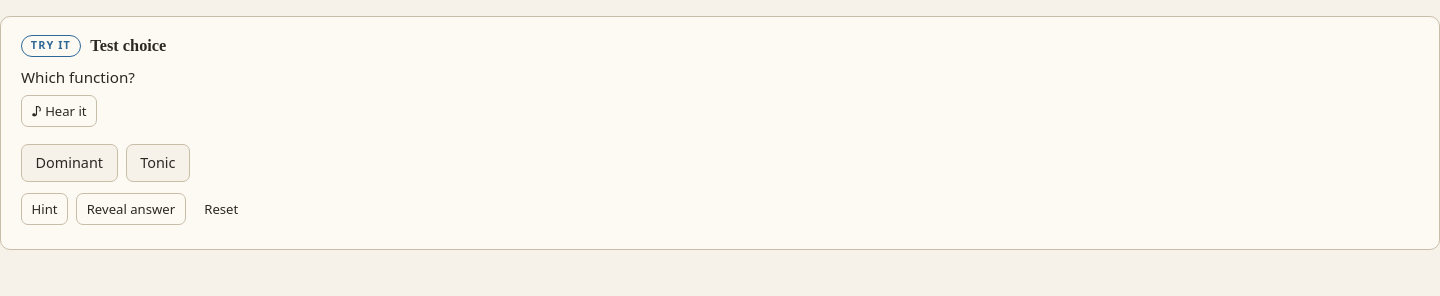
it: ChoiceExercise › gives immediate feedback for wrong then right answers
What coordinates should you click on to do the following:
click the button "Tonic"
I would click on:
 (158, 163)
Its box is [126,144,190,182].
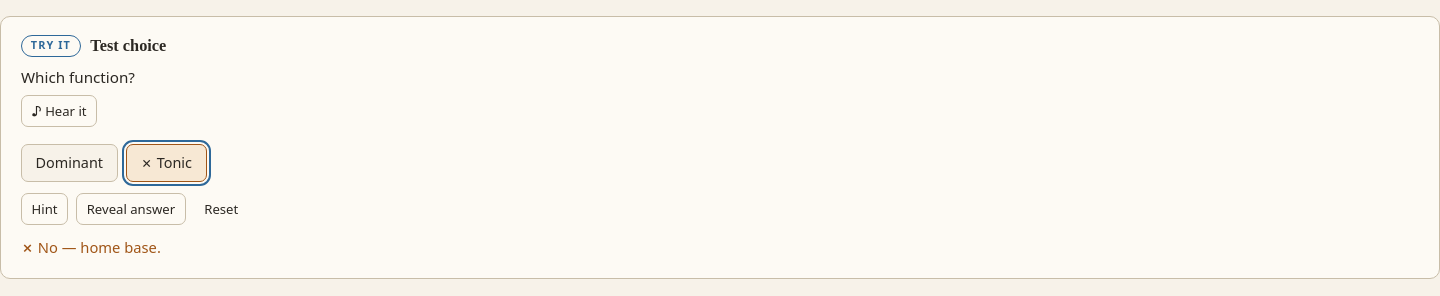
expect the text "✗ No — home base." is shown: met, box [21,237,161,257]
What coordinates should you click on to do the following:
click the button "Dominant"
I would click on:
 (69, 163)
Its box is [21,144,118,182].
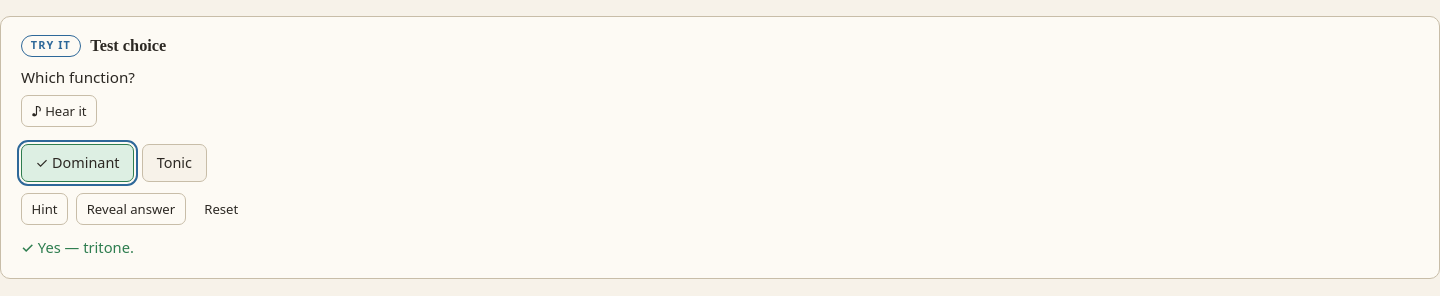
expect the text "✓ Yes — tritone." is shown: met, box [21,237,134,257]
